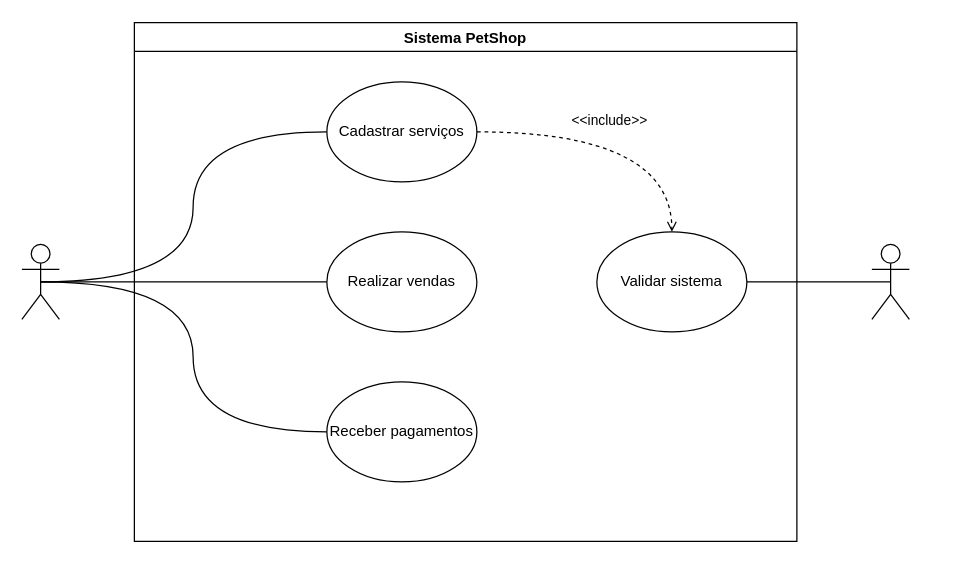
The diagram is 959 pixels wide and 563 high, and some of its shapes have lost their labels. Each missing label, with the centre of its shape:
Administrador: point (890, 281)
Loja: point (40, 281)
